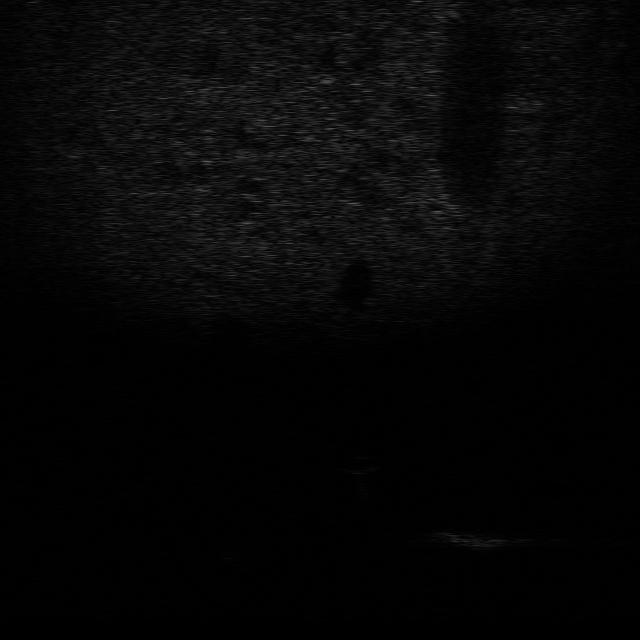ball: (335, 454, 381, 476)
metal bucket: (428, 522, 518, 554)
tyre: (204, 538, 250, 567)
